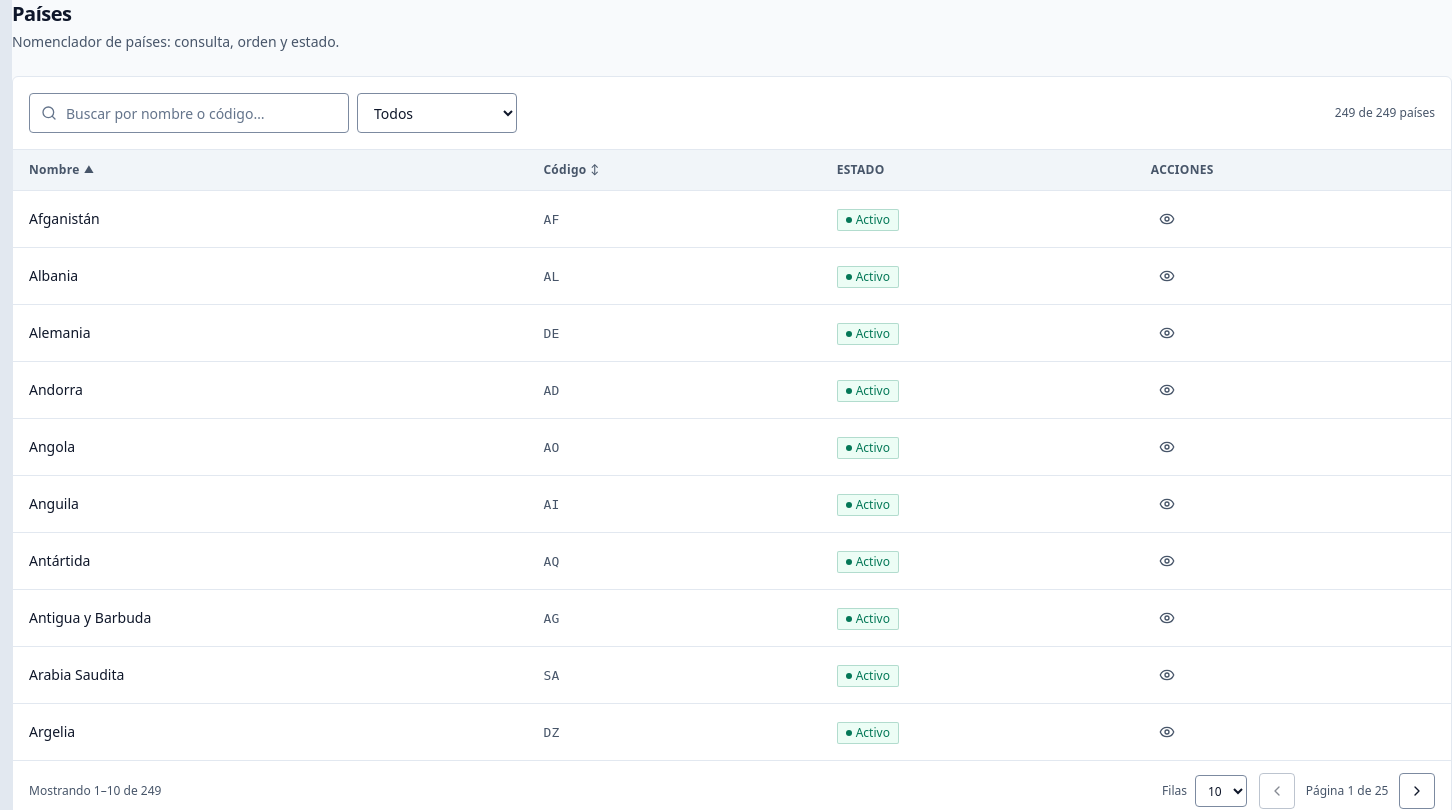
CountriesPage › pagina al avanzar y vuelve a la página 1 al cambiar el tamaño
Check: the text "Mostrando 1–10 de 249" is shown, box [29, 783, 161, 799]
Click the button named "página siguiente".
click(1417, 791)  # box [1399, 773, 1435, 809]
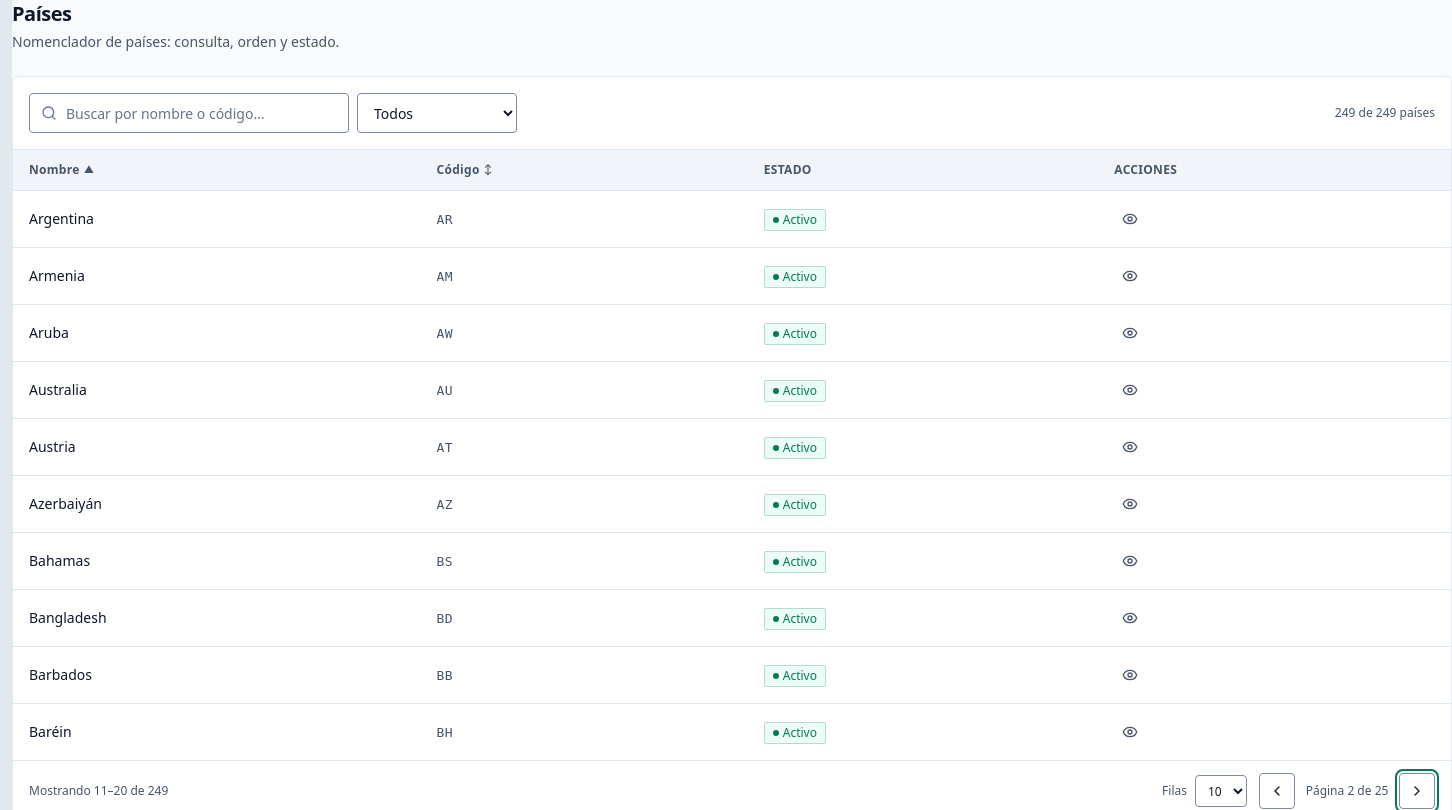
Check: the text "Mostrando 11–20 de 249" is shown, box [29, 783, 168, 799]
Select "25" in the dropdown labelled "Filas" at coordinates (1221, 791), box [1195, 775, 1247, 807]
(page scrolled)
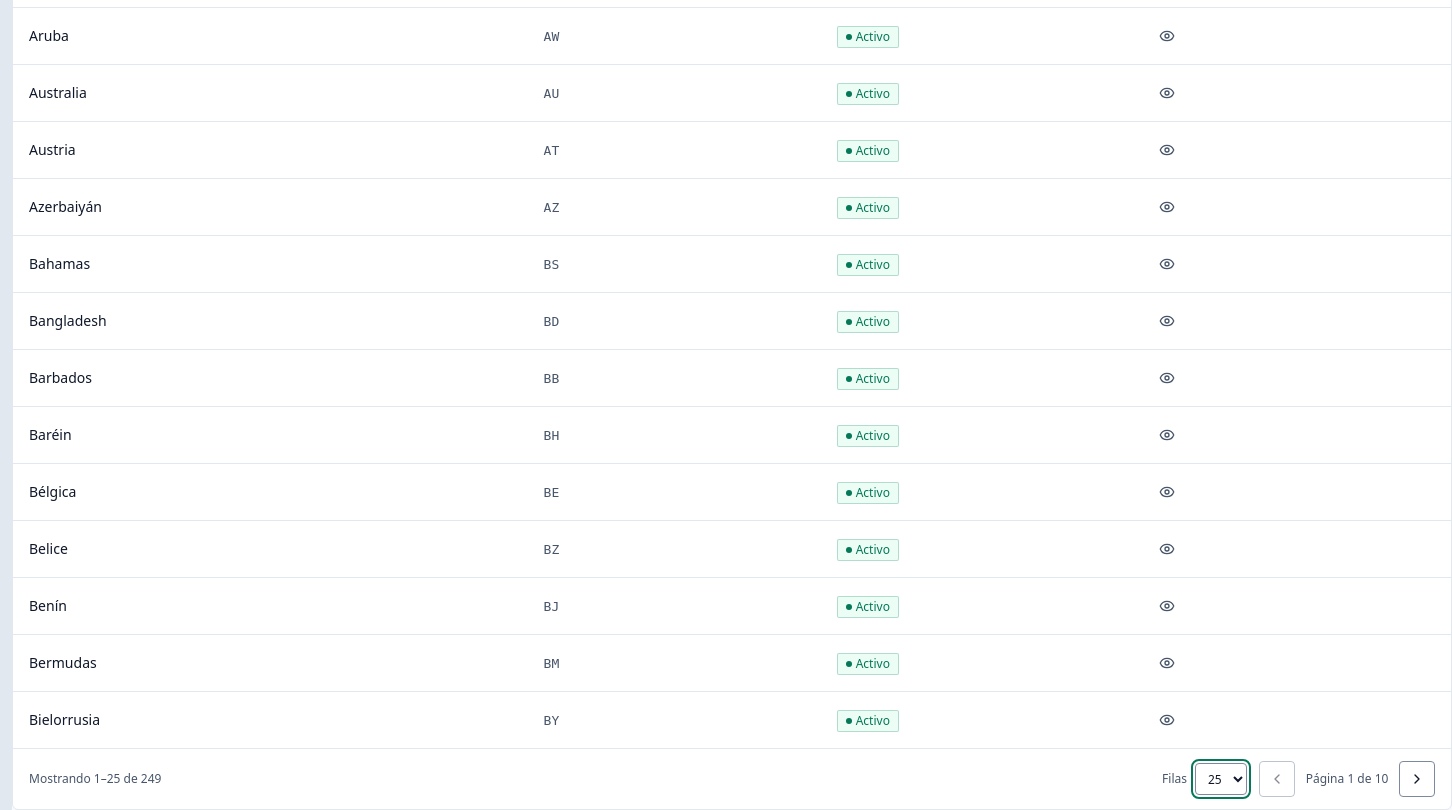
Check: the text "Mostrando 1–25 de 249" is shown, box [29, 771, 161, 787]
